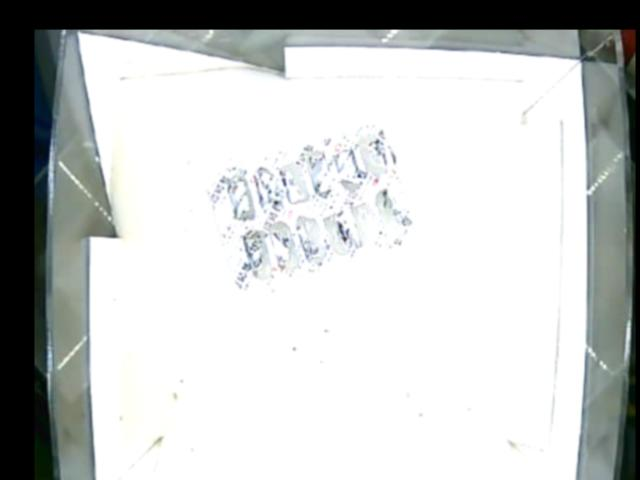Bottle: (453, 238, 523, 388)
Medicine: (204, 124, 414, 289)
